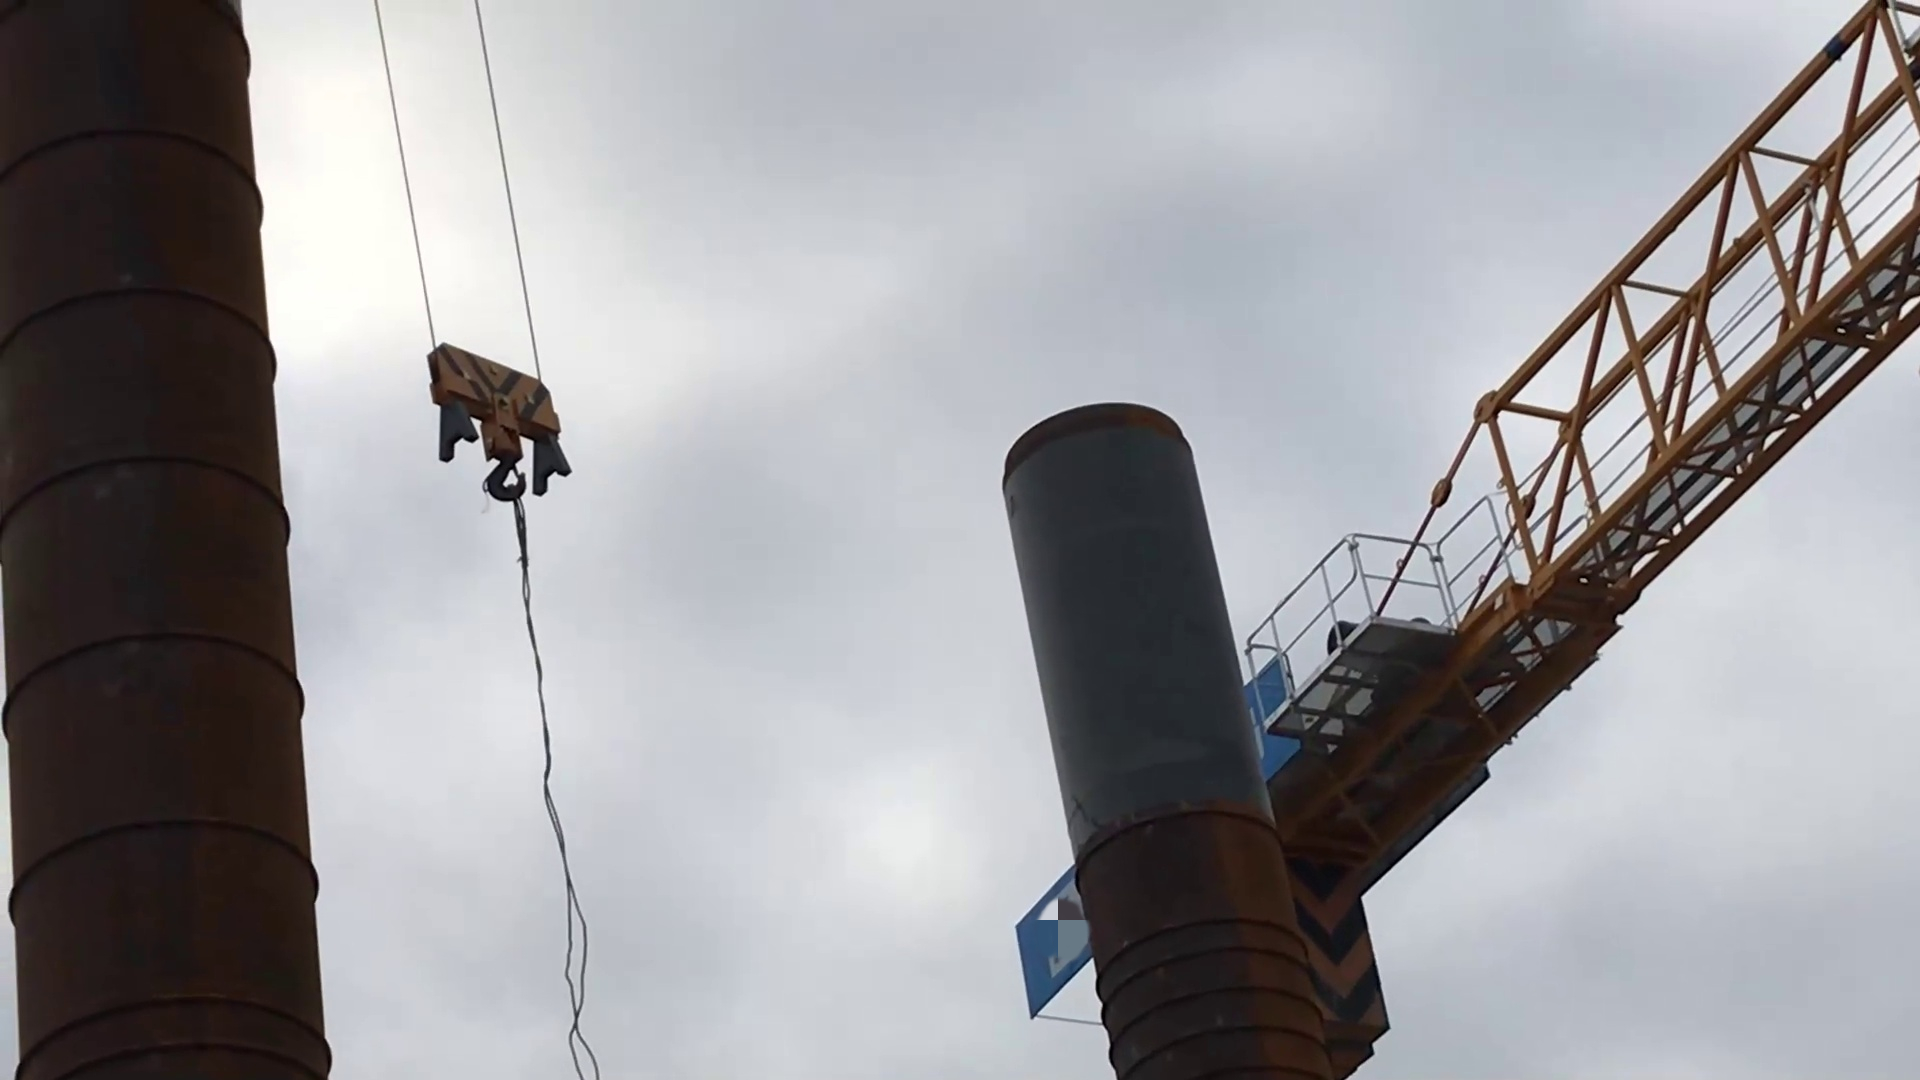hook: (419, 334, 595, 529)
